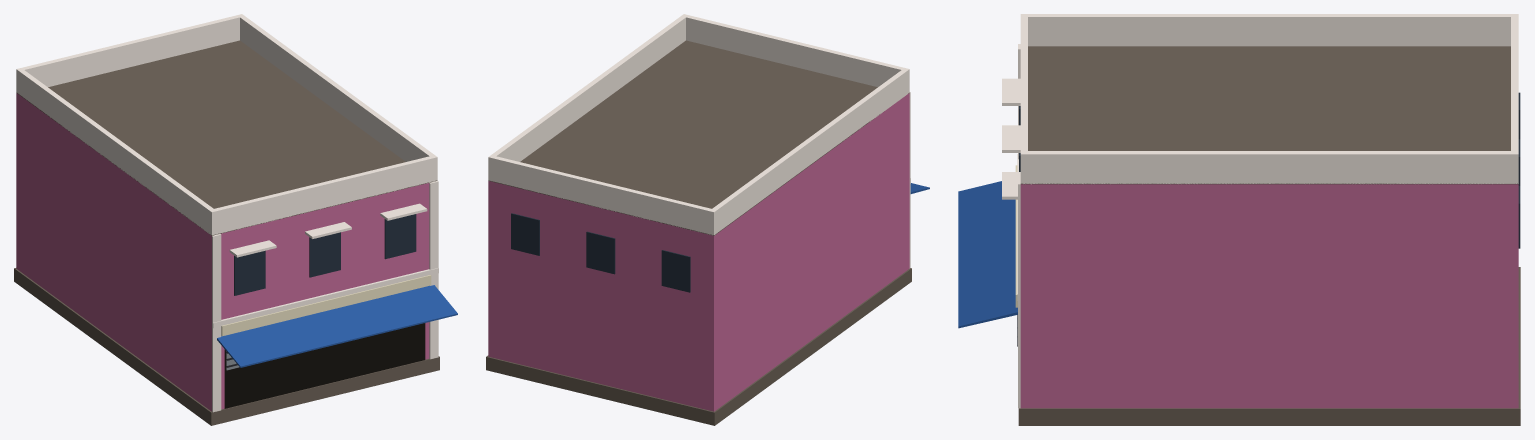
File: bld_ot_shop_03.glb
3 renders of one model, left to right at view 1: azimuth 30°, elevation 25°; view 2: azimuth 150°, elevation 25°; view 3: azimuth 270°, elevation 25°, orthographic. The views are drawn at different scales.
Parts seen in each view (by area): view 1: bld_ot_shop_03; view 2: bld_ot_shop_03; view 3: bld_ot_shop_03.
Part boxes in pixels (<box>): bld_ot_shop_03: <box>14,14,457,425</box>; bld_ot_shop_03: <box>486,14,929,425</box>; bld_ot_shop_03: <box>958,14,1520,425</box>.
Size of what is drawn, in the model's own units: 8.1 by 7.2 by 13.55.
